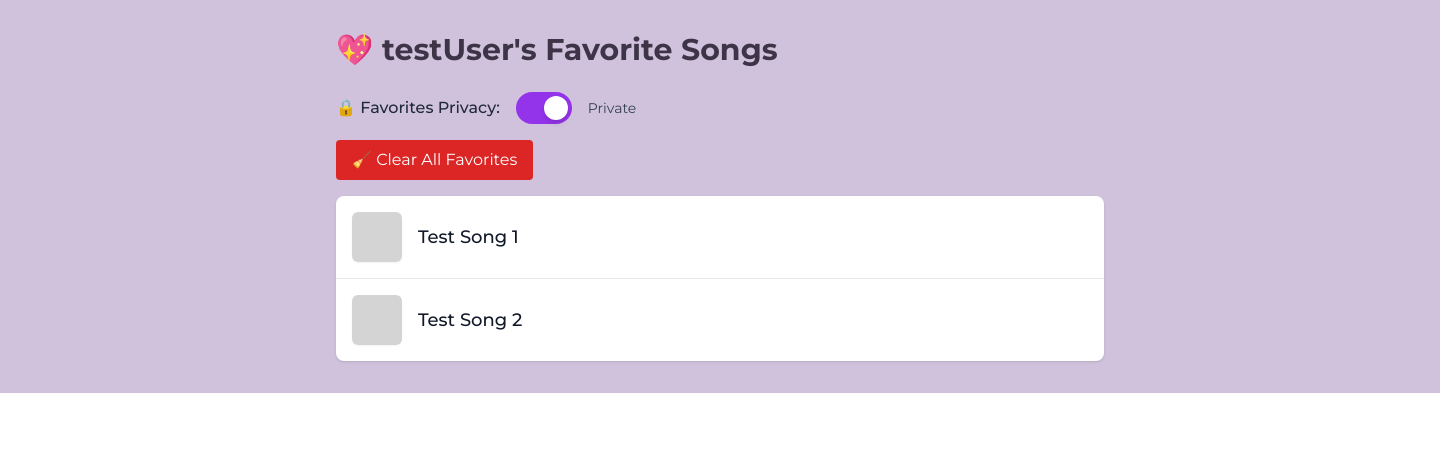
Favorites Component › toggles from Private to Public when clicking the switch
The width and height of the screenshot is (1440, 468).
Expected: the text "Private" is shown, [588,98,636,118]
# click the toggle DIV next to the lock‐icon label
Click the switch named "Toggle Privacy". click: click(544, 108)
box: [516,92,572,124]
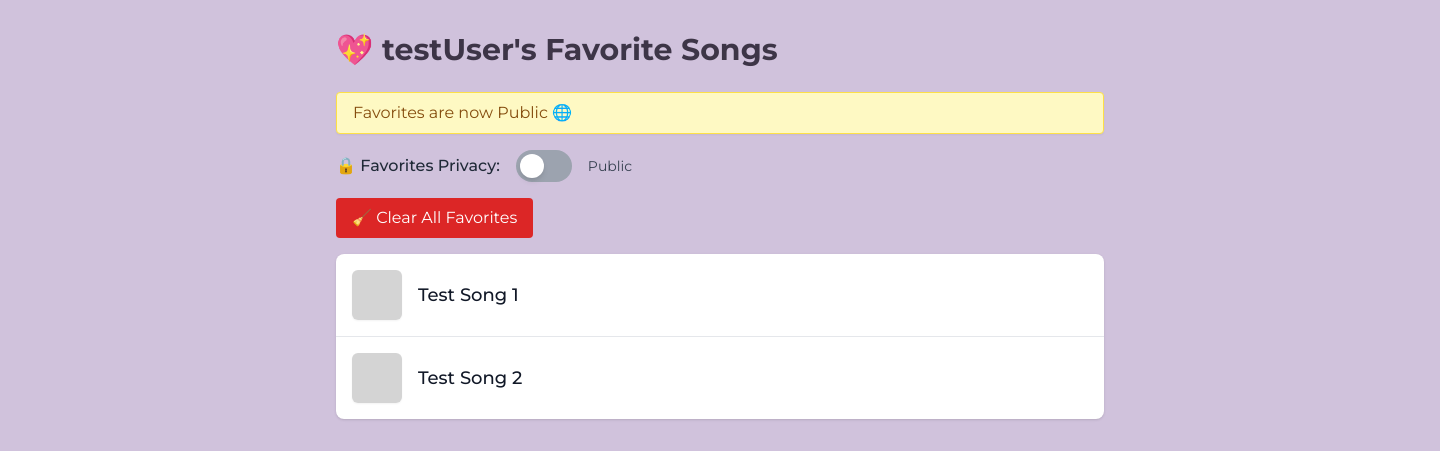
Now the text "Public" is shown, box [588,156,632,176]
Now the text "Favorites are now Public 🌐" is shown, box [336,92,1104,134]
